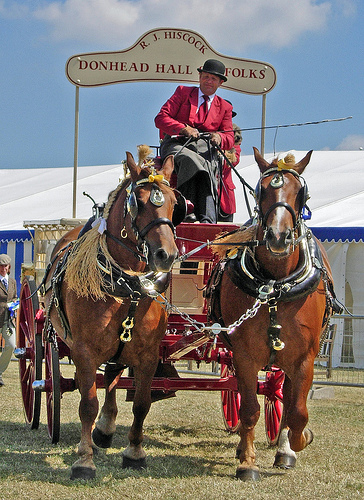horse: (41, 144, 187, 480), (207, 147, 333, 483)
